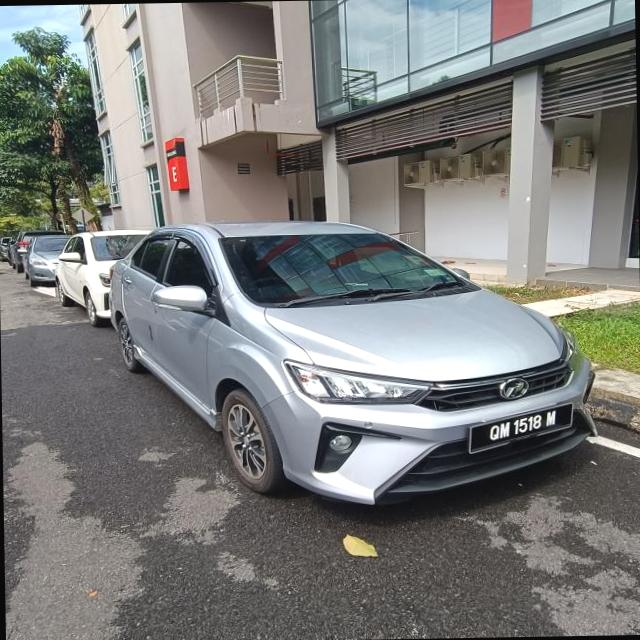PeroduaBezza: (104, 212, 600, 510)
